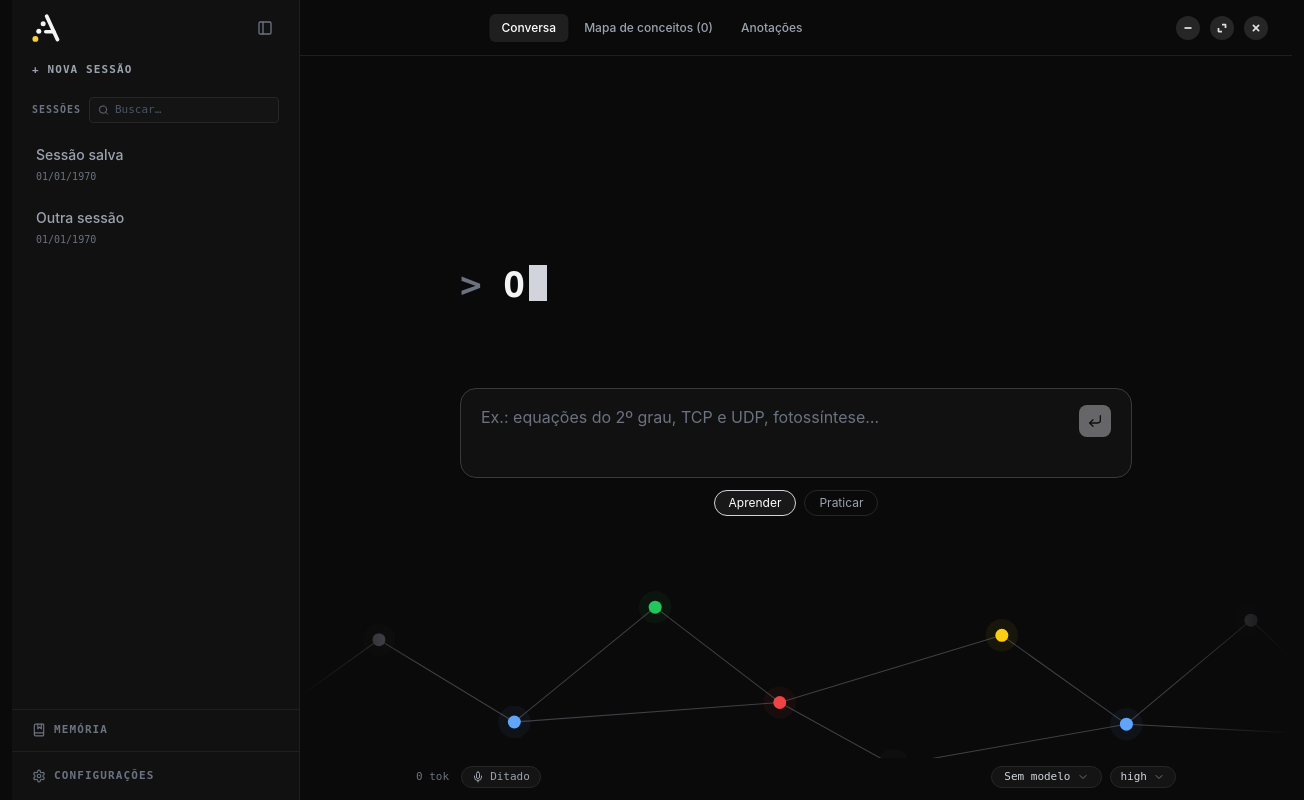
it: App session navigation › F1: a new session after a saved one shows its own focus options
Click the text "Sessão salva".
click(80, 155)  # box [36, 145, 124, 165]
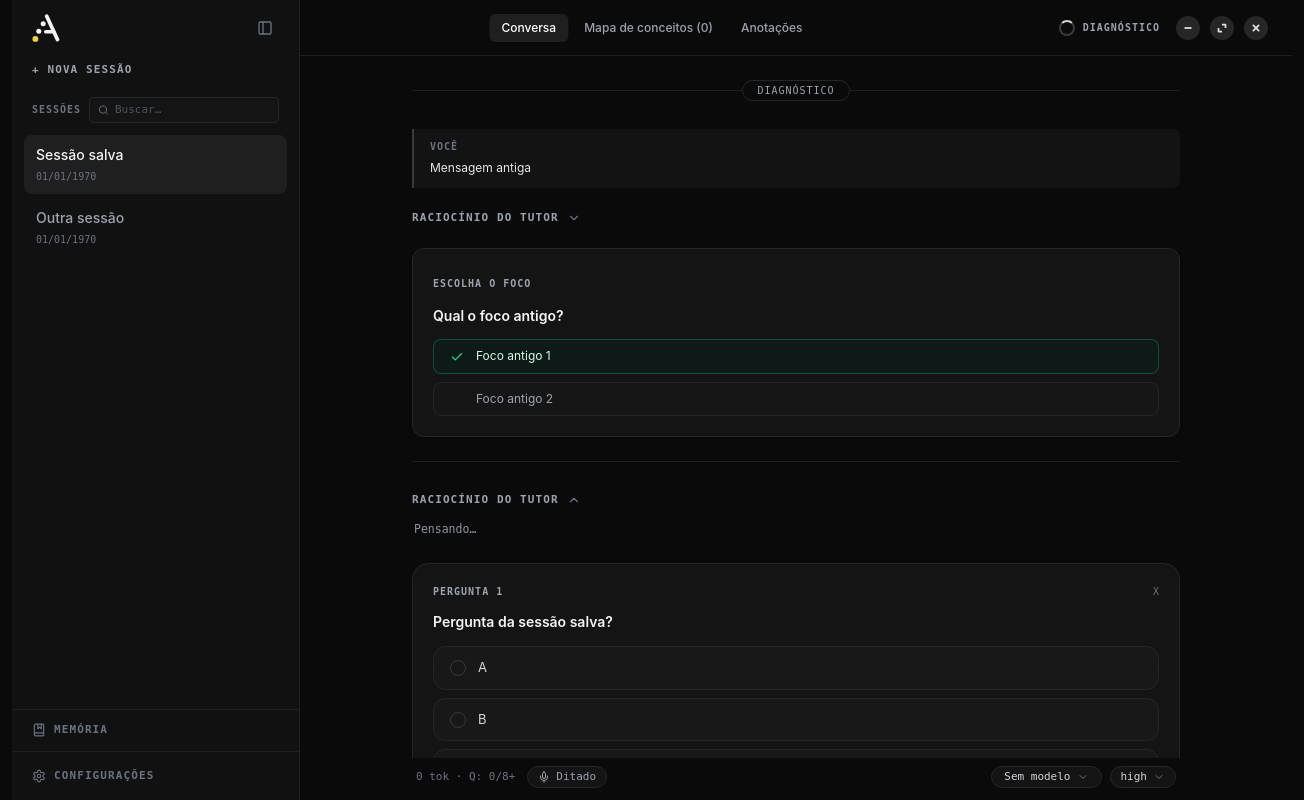
Now the text "Pergunta da sessão salva?" is shown, box [433, 613, 613, 630]
Click the button "+ Nova sessão".
click(82, 70)  # box [24, 56, 287, 84]
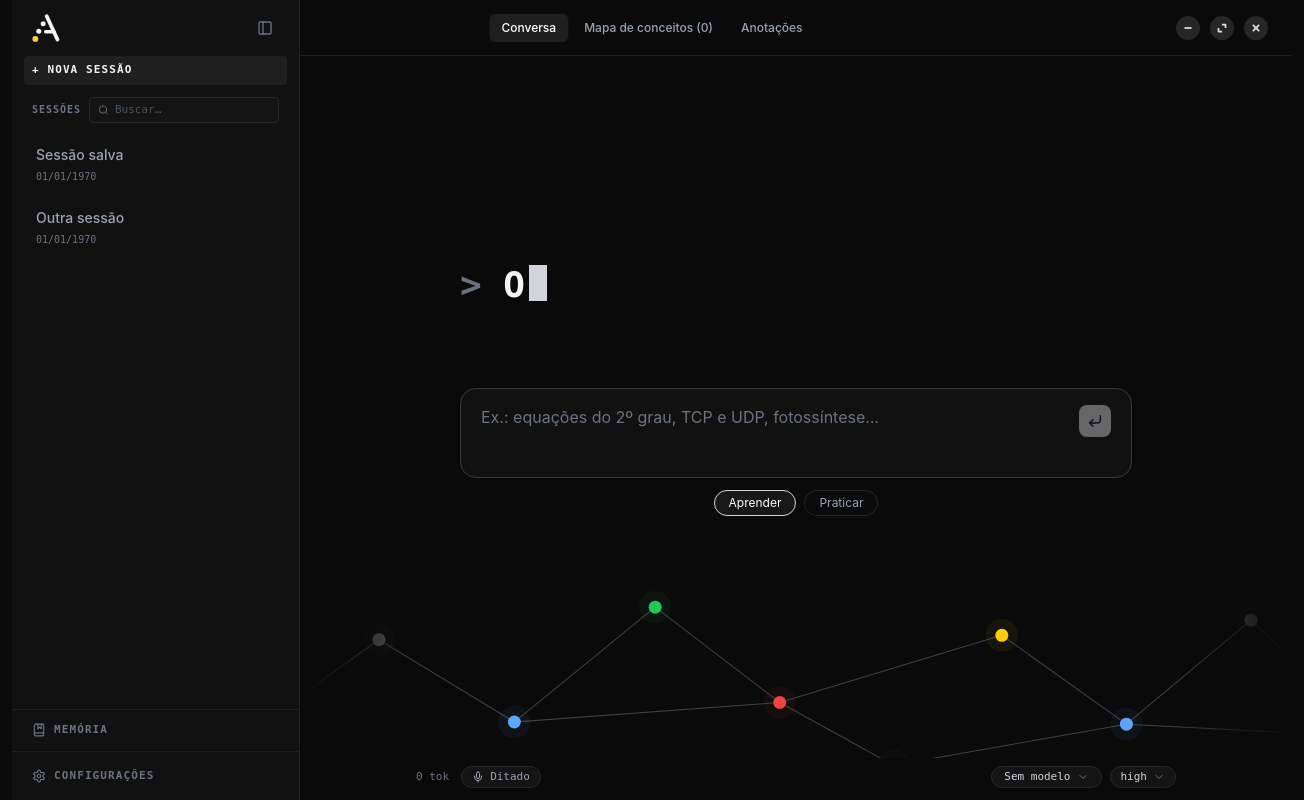
Type "Tema novo" into the text box with placeholder "Ex.: equações do 2º grau, TCP e UDP, fotossíntese…".
click(776, 433); type("Tema novo")  # box [481, 405, 1071, 461]
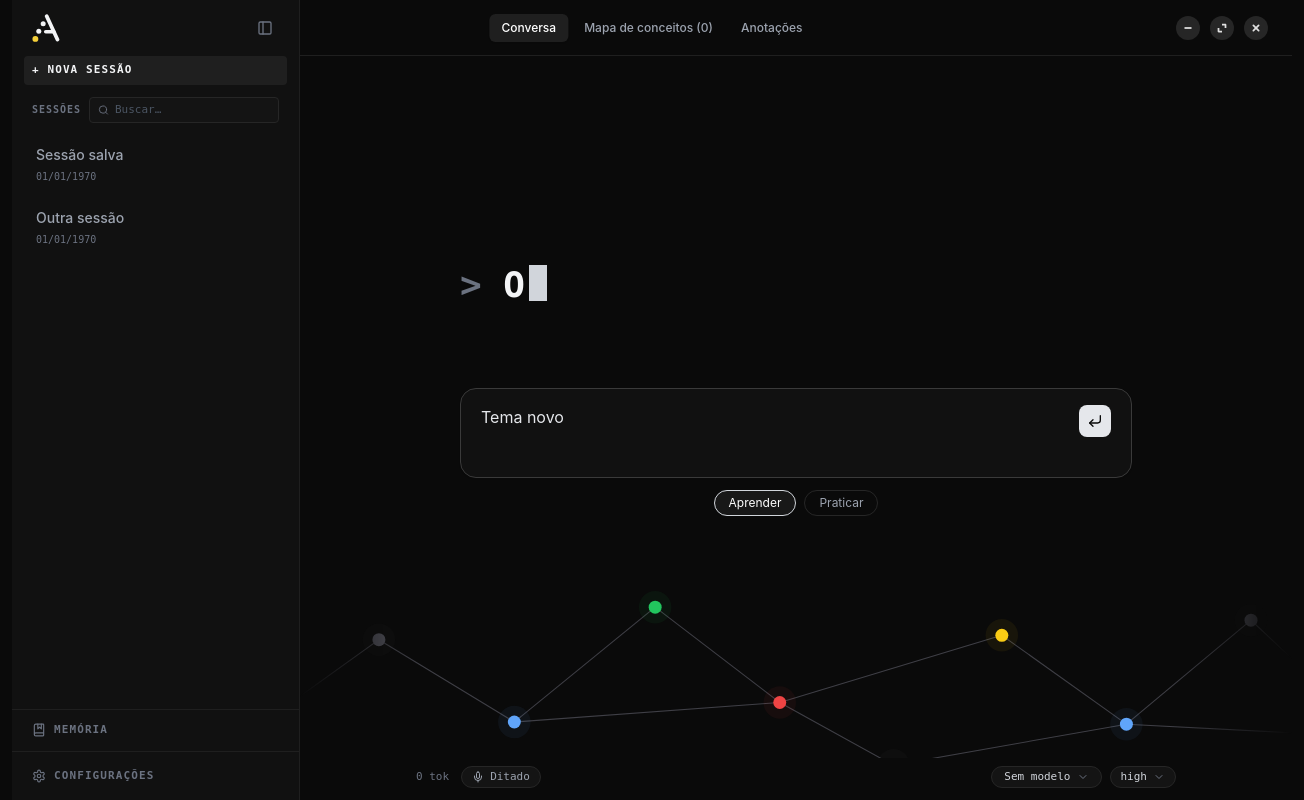
Click the button named "começar".
click(1095, 421)  # box [1079, 405, 1111, 437]
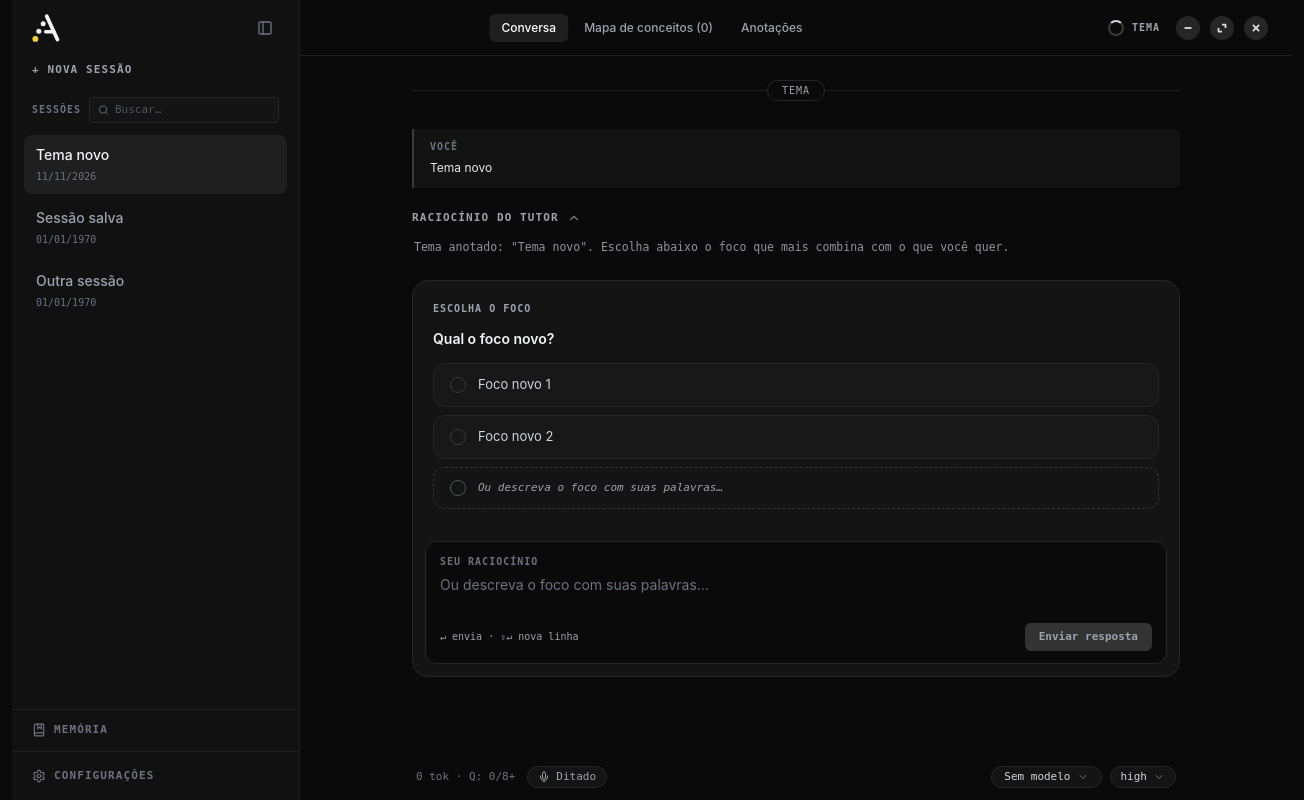
Expected: the text "Qual o foco antigo?" is not shown
Now the text "Foco novo 1" is shown, box [478, 376, 551, 394]
Now the text "Tema novo" below "Sessões" is shown, box [36, 146, 109, 163]
